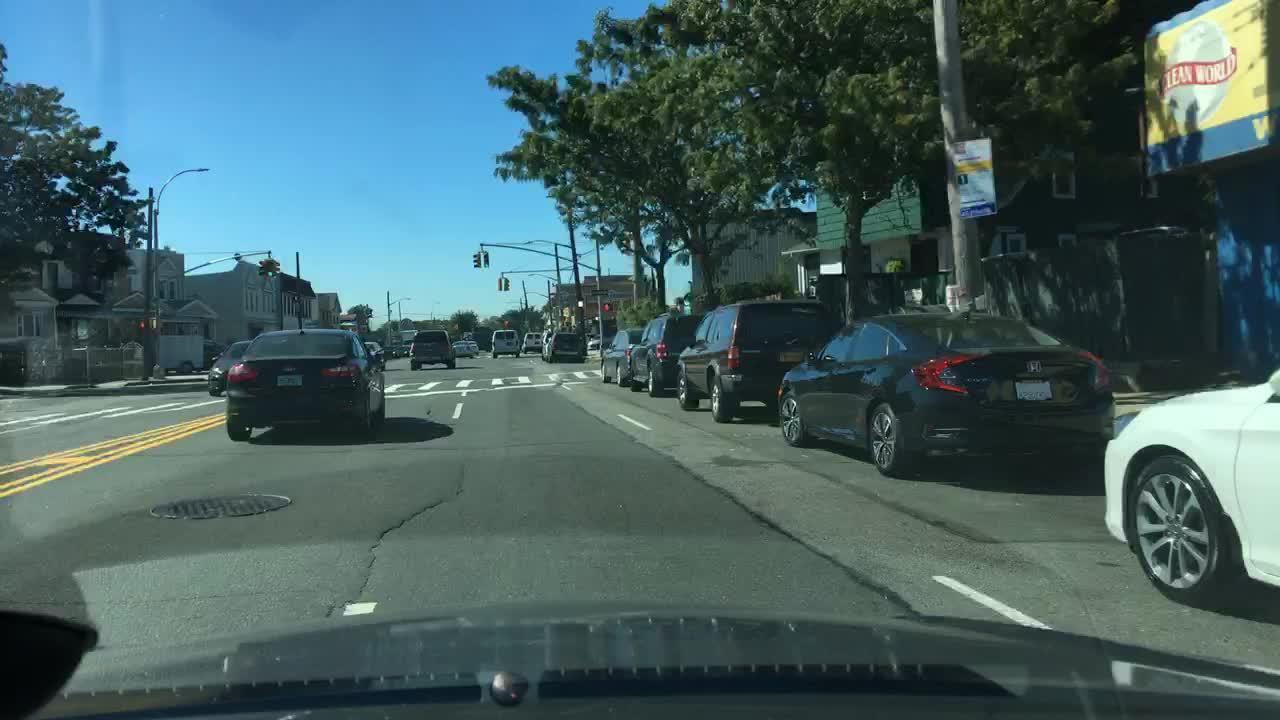Honda: (1019, 354, 1049, 380)
